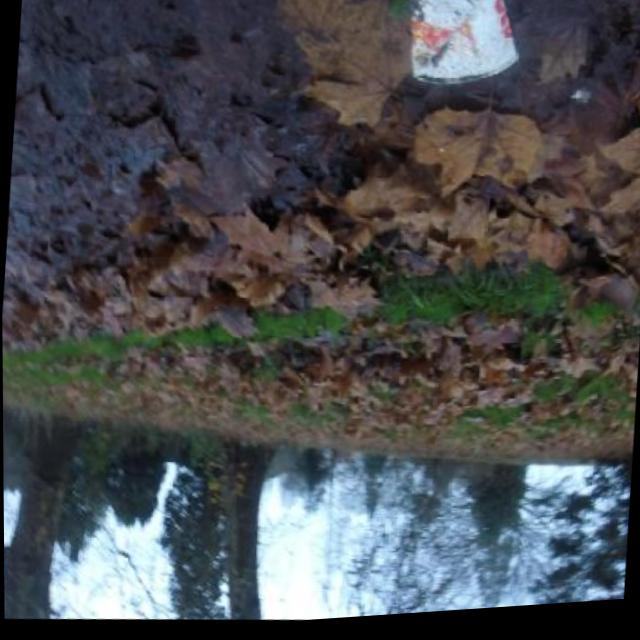cardboard: (398, 0, 524, 94)
